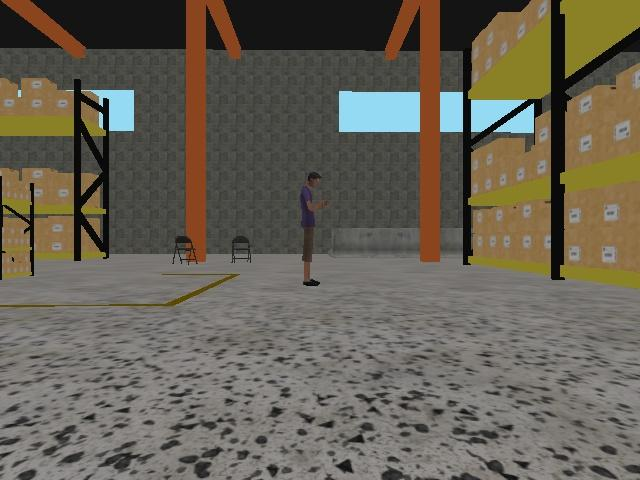chair: (172, 235, 199, 266), (231, 235, 252, 264)
person: (299, 171, 330, 288)
